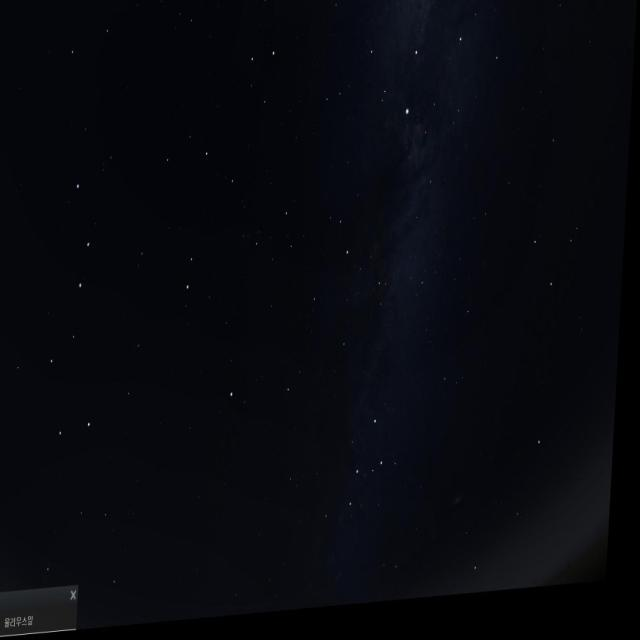cassiopeia: (318, 420, 401, 530)
cygnus: (362, 0, 469, 144)
ursa_major: (33, 152, 118, 452)
